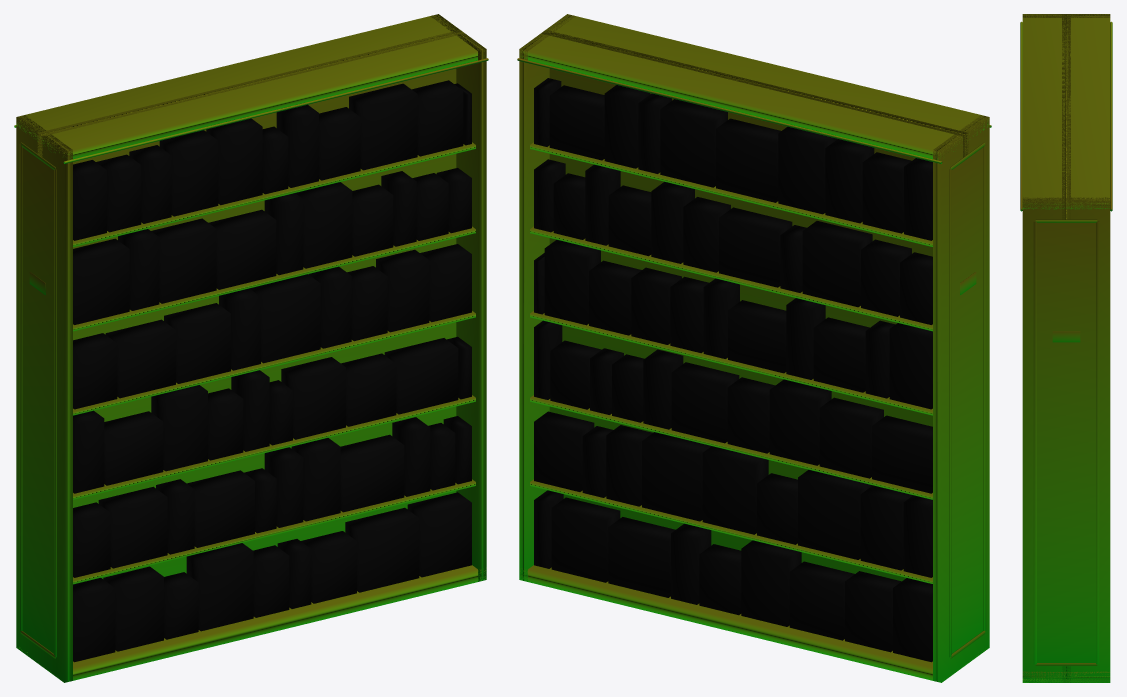
File: archive_case.glb
3 views of the same model, side by side, from view 1: azimuth 30°, elevation 25°; view 2: azimuth 150°, elevation 25°; view 3: azimuth 270°, elevation 25° (orthographic). The views are drawn at different scales.
Parts seen in each view (by area): view 1: archive_case; view 2: archive_case; view 3: archive_case.
Part boxes in pixels (box(x1,y1,x2,y2)): archive_case: box(14, 14, 488, 682); archive_case: box(517, 14, 991, 682); archive_case: box(1020, 14, 1112, 682).
Size of what is drawn, in the model's own units: 5.05 by 5.98 by 1.04.
